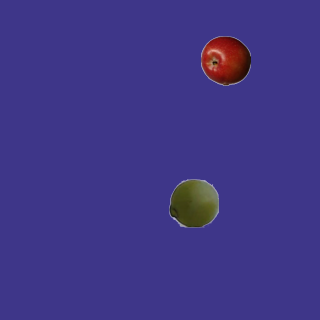Apple Braeburn: (200, 35, 250, 85)
Grape White 4: (168, 177, 218, 227)
